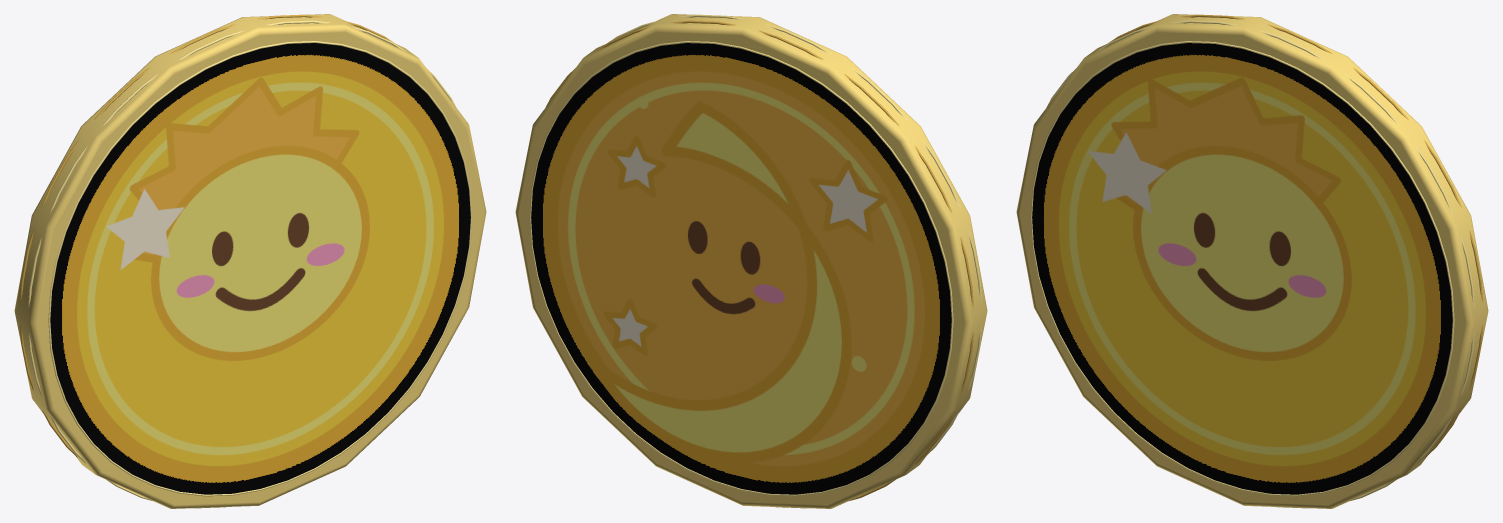
Rendered from asset.glb.
The picture shows the model from 3 angles, left to right: view 1: azimuth 30°, elevation 25°; view 2: azimuth 150°, elevation 25°; view 3: azimuth 330°, elevation 25°; orthographic projection.
Visible parts, largest first — view 1: Front | smiling sun, Coin | rounded gold body, Front | embossed outer bead, Edge | upper gold ridge, Edge | lower gold ridge; view 2: Back | sleepy moon, Coin | rounded gold body, Back | embossed outer bead, Edge | lower gold ridge, Edge | upper gold ridge; view 3: Front | smiling sun, Coin | rounded gold body, Front | embossed outer bead, Edge | upper gold ridge, Edge | lower gold ridge.
Part boxes in pixels (bbox=[...]): Front | smiling sun: bbox=[50, 43, 470, 494]; Coin | rounded gold body: bbox=[14, 14, 486, 508]; Front | embossed outer bead: bbox=[48, 41, 472, 496]; Edge | upper gold ridge: bbox=[28, 20, 456, 508]; Edge | lower gold ridge: bbox=[20, 14, 398, 458]; Back | sleepy moon: bbox=[531, 43, 951, 494]; Coin | rounded gold body: bbox=[515, 14, 987, 508]; Back | embossed outer bead: bbox=[529, 41, 953, 496]; Edge | lower gold ridge: bbox=[545, 20, 973, 508]; Edge | upper gold ridge: bbox=[603, 14, 981, 458]; Front | smiling sun: bbox=[1032, 43, 1452, 494]; Coin | rounded gold body: bbox=[1016, 14, 1488, 508]; Front | embossed outer bead: bbox=[1030, 41, 1454, 496]; Edge | upper gold ridge: bbox=[1046, 20, 1474, 508]; Edge | lower gold ridge: bbox=[1104, 14, 1482, 458].
Bounding box in the file's own units: 0.04 × 0.04 × 0.00314.
Materials: 5 (2 with a texture image).
